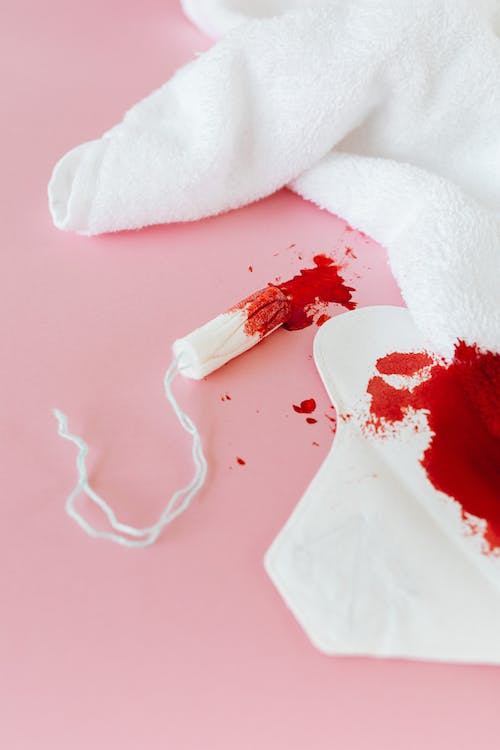blood: (337, 334, 500, 566), (218, 222, 372, 343), (213, 390, 336, 471)
